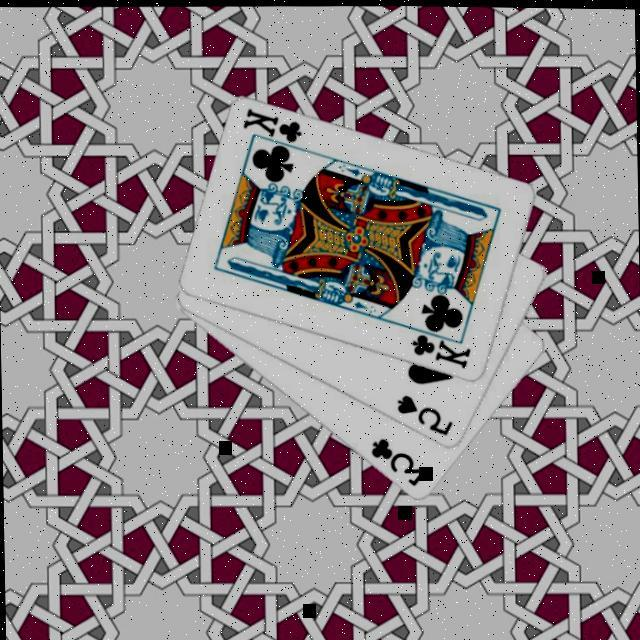3C: (366, 431, 428, 487)
5S: (392, 386, 455, 436)
KC: (238, 102, 306, 154), (406, 318, 473, 368)
